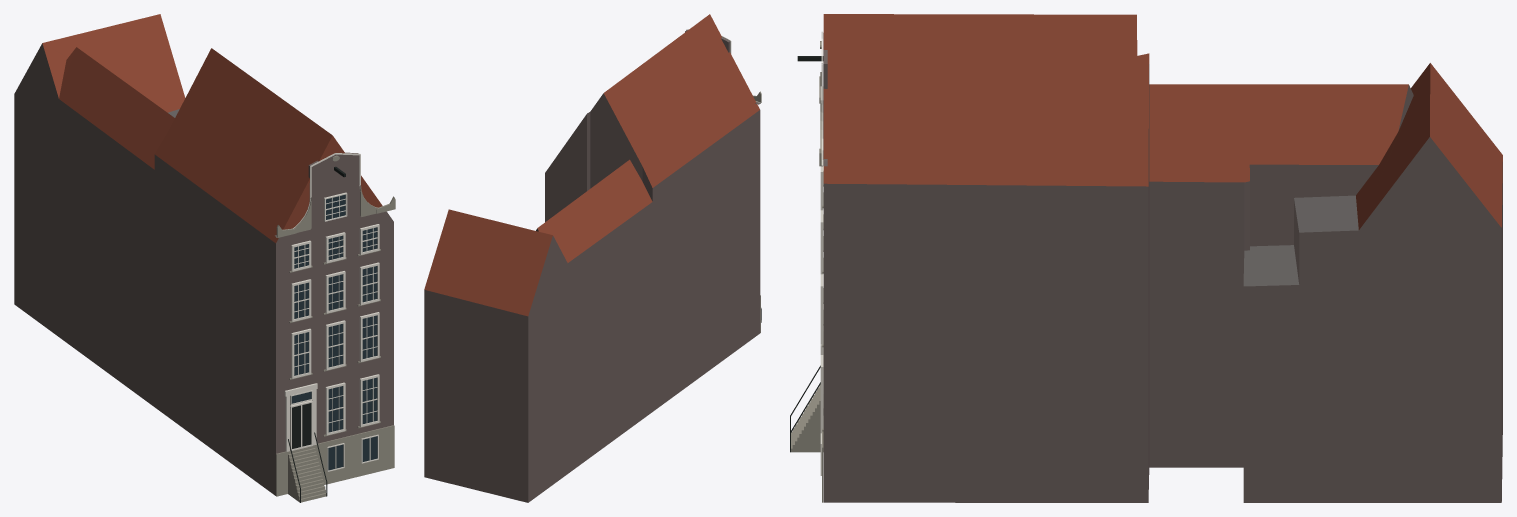
The picture shows the model from 3 angles, left to right: view 1: azimuth 30°, elevation 25°; view 2: azimuth 150°, elevation 25°; view 3: azimuth 270°, elevation 25°; orthographic projection. The views are drawn at different scales.
Parts seen in each view (by area): view 1: spec-0363100012176066; view 2: spec-0363100012176066; view 3: spec-0363100012176066.
Part boxes in pixels (x1,y1,x2,y2): spec-0363100012176066: (14,14,395,502); spec-0363100012176066: (424,14,761,502); spec-0363100012176066: (790,14,1502,502).
Size of the model in its own units: 7.46 by 20.92 by 30.02.
